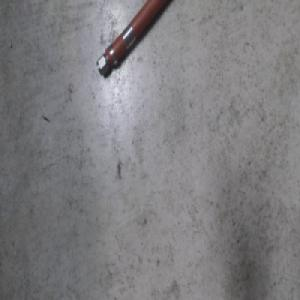Hose: (95, 0, 172, 79)
